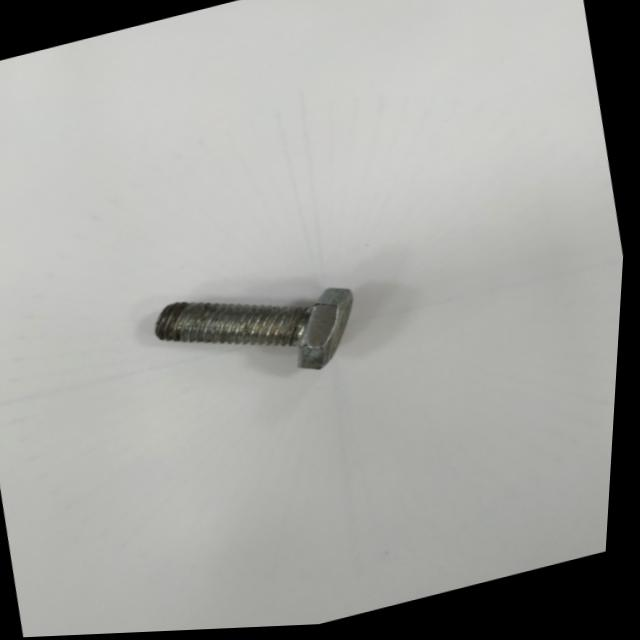Bolt: (159, 291, 357, 371)
